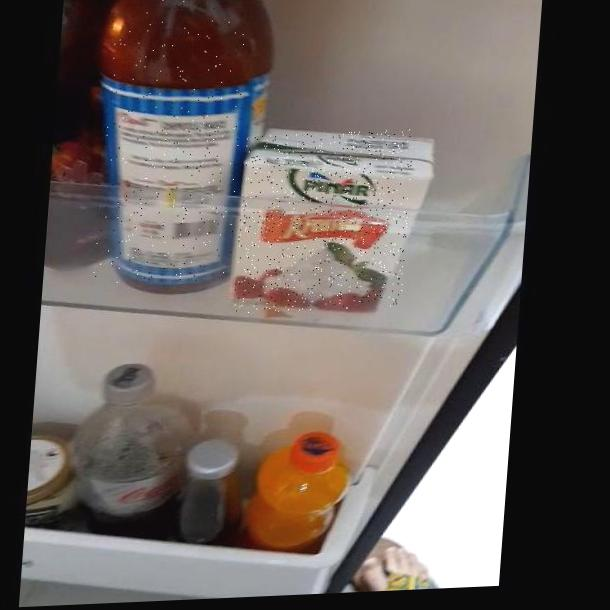cream: (233, 129, 415, 314)
sauce: (91, 0, 250, 286)
